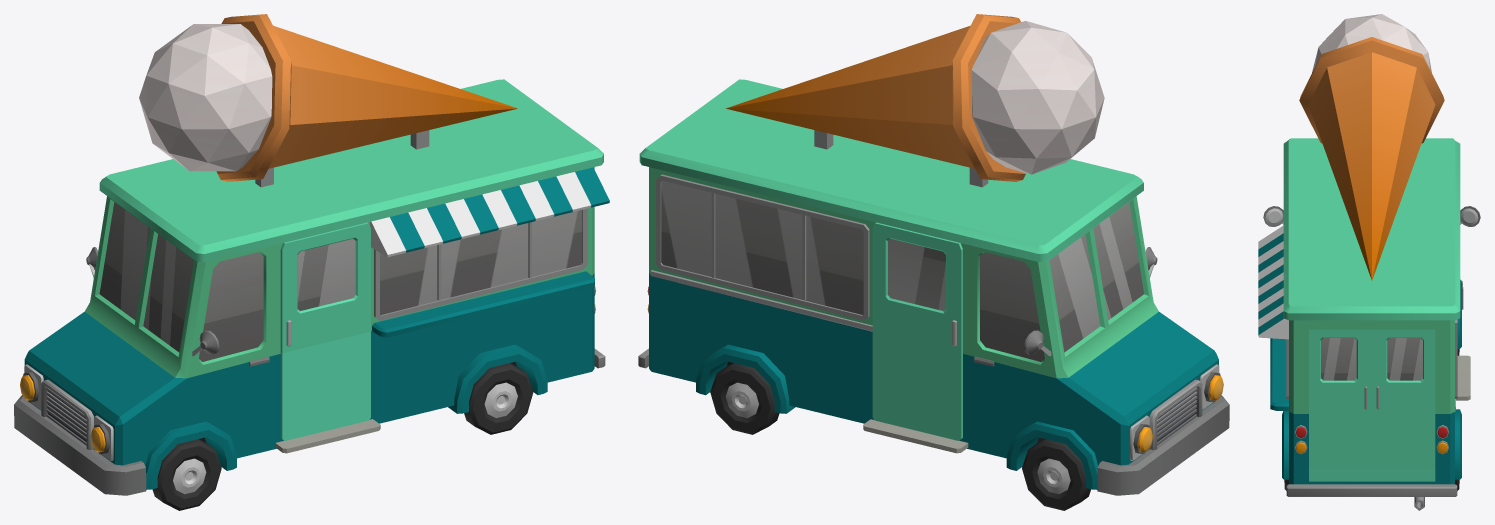
The model's file is IceTruck_1_D.gltf.
The picture shows the model from 3 angles, left to right: view 1: azimuth 30°, elevation 25°; view 2: azimuth 150°, elevation 25°; view 3: azimuth 270°, elevation 25°; orthographic projection. The views are drawn at different scales.
Parts seen in each view (by area): view 1: IceTruck_1_D, RL, FL; view 2: IceTruck_1_D, RR, FR; view 3: IceTruck_1_D.
Boxes of the visible parts, x1,y1,x2,y2 form: IceTruck_1_D: (14, 14, 609, 495); RL: (464, 363, 533, 434); FL: (152, 439, 221, 510); IceTruck_1_D: (638, 14, 1229, 495); RR: (710, 363, 779, 434); FR: (1022, 439, 1090, 510); IceTruck_1_D: (1258, 14, 1480, 510).
Size of the model in its own units: 4.16 by 3.38 by 1.84.
Materials: 4 (4 with a texture image).
